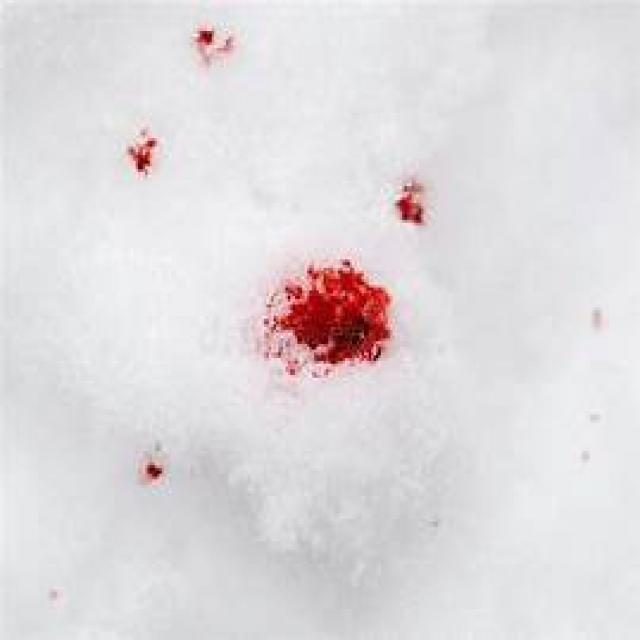wound: (243, 227, 413, 426), (111, 110, 212, 192), (379, 163, 474, 247), (165, 13, 268, 89), (112, 438, 190, 496)
